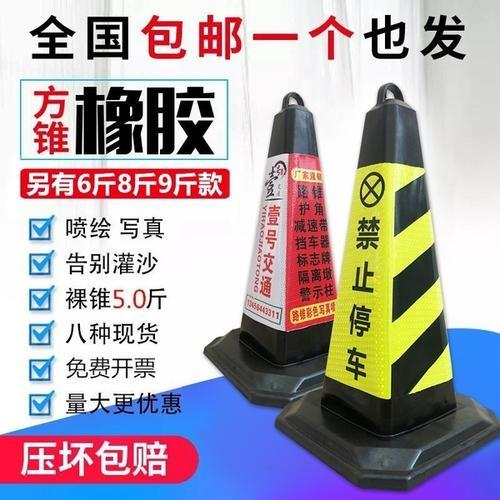cone_barrel: (314, 75, 473, 458), (223, 100, 349, 381)
